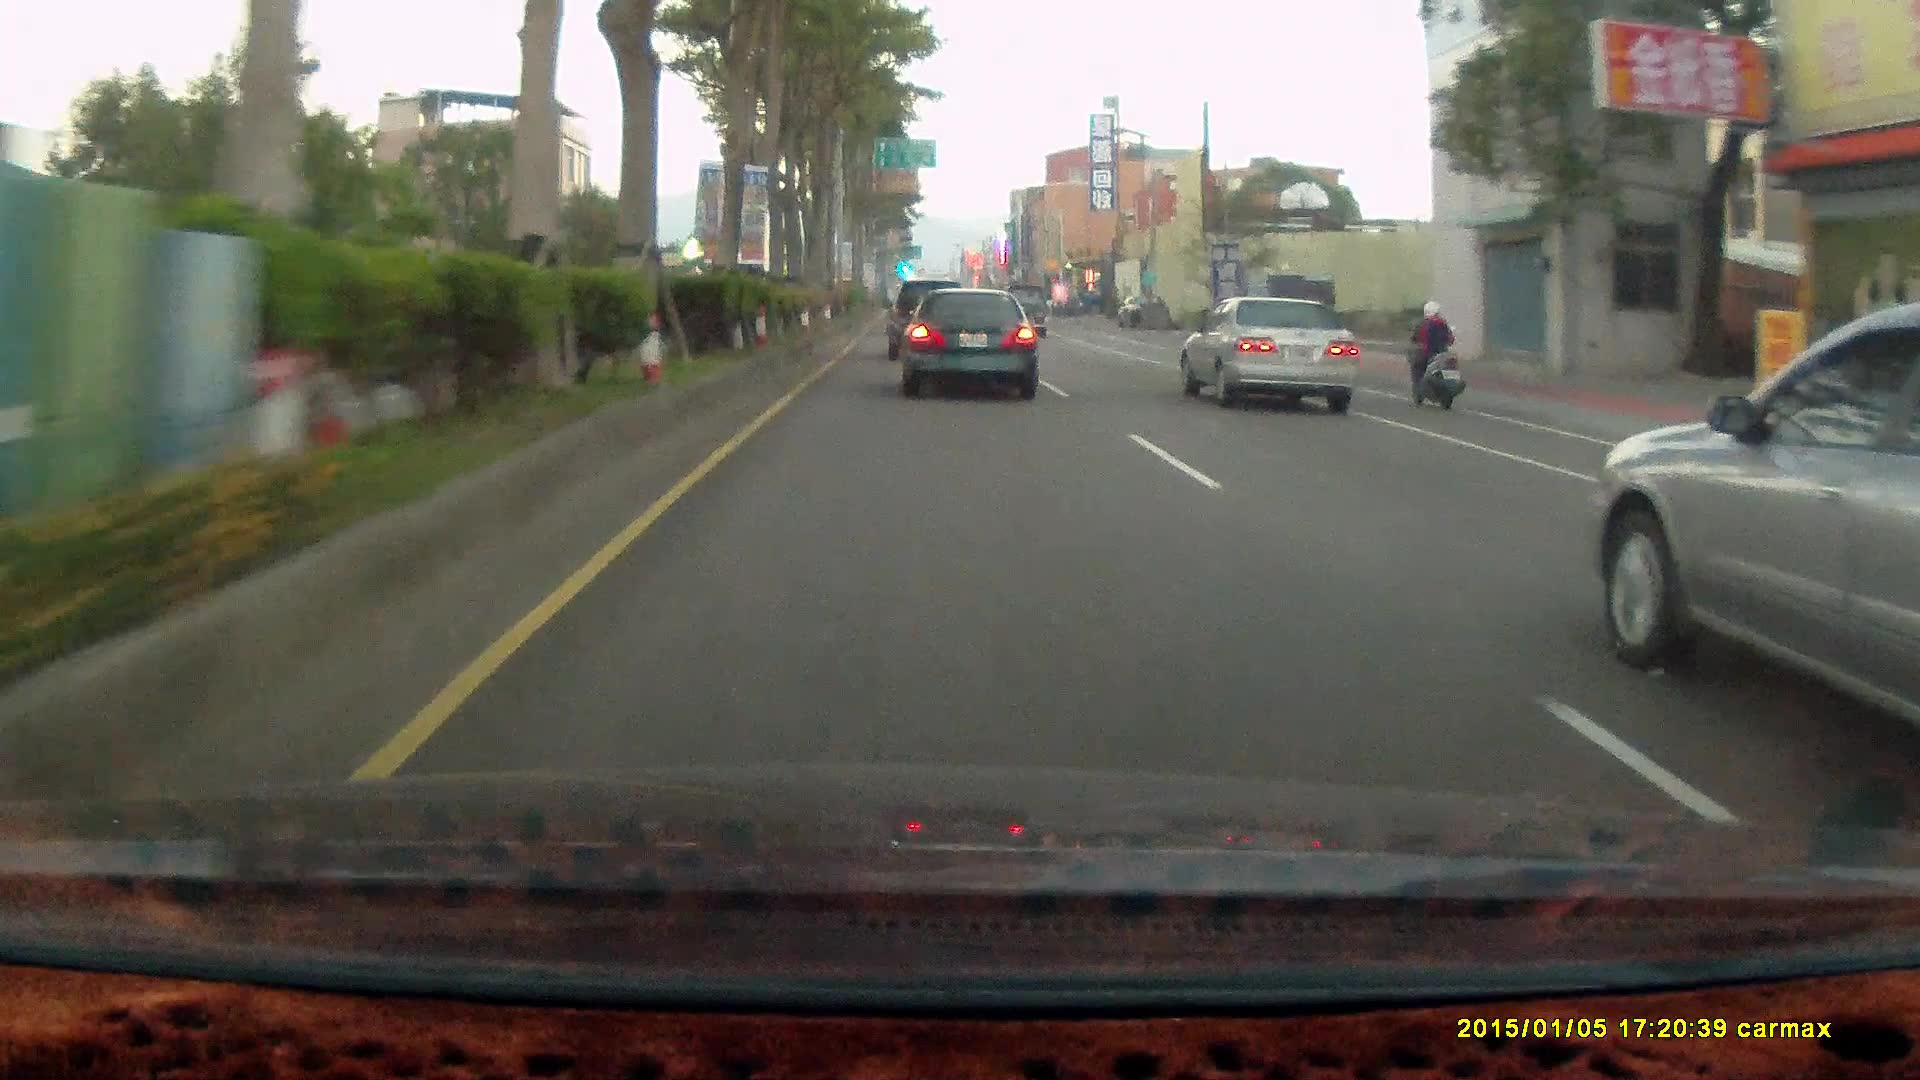rider: (1394, 292, 1474, 418), (1401, 297, 1466, 412)
vehicle: (1591, 322, 1920, 791), (1179, 297, 1359, 416), (1187, 302, 1363, 417), (899, 292, 1039, 404), (899, 290, 1038, 400), (1239, 280, 1334, 364), (889, 278, 973, 362), (886, 279, 967, 361), (1002, 282, 1049, 336)
